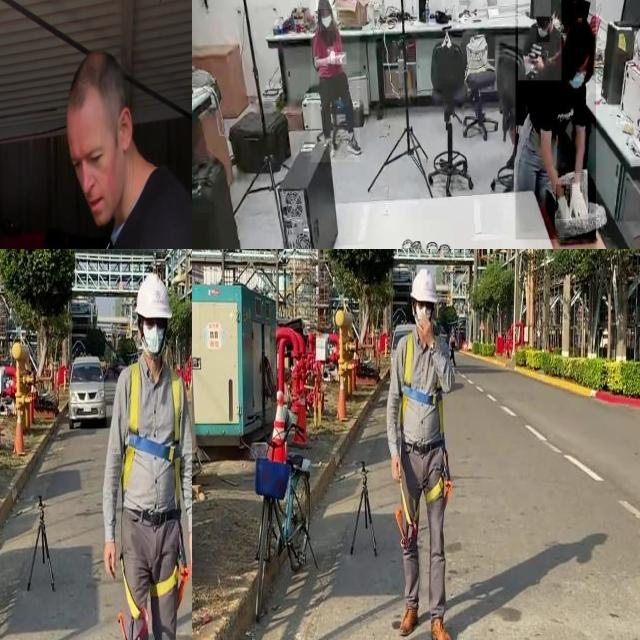Harness: (122, 362, 183, 510), (401, 334, 443, 438)
No_Ear-Protection: (120, 106, 133, 159)
No_Glasses: (69, 139, 114, 180)
face_mask: (567, 59, 586, 94), (536, 17, 550, 42), (321, 10, 333, 31)
face_nomask: (81, 170, 114, 226)
hand_glove: (566, 173, 588, 226), (556, 184, 570, 220)
hand_noglove: (528, 49, 544, 71), (331, 52, 347, 65), (327, 47, 335, 65)
head_nohelmet: (69, 50, 125, 139), (566, 15, 596, 56), (533, 0, 551, 17), (316, 0, 331, 10)
person: (515, 0, 596, 240), (310, 0, 359, 163), (518, 0, 561, 80)
shoes: (344, 128, 362, 157)
